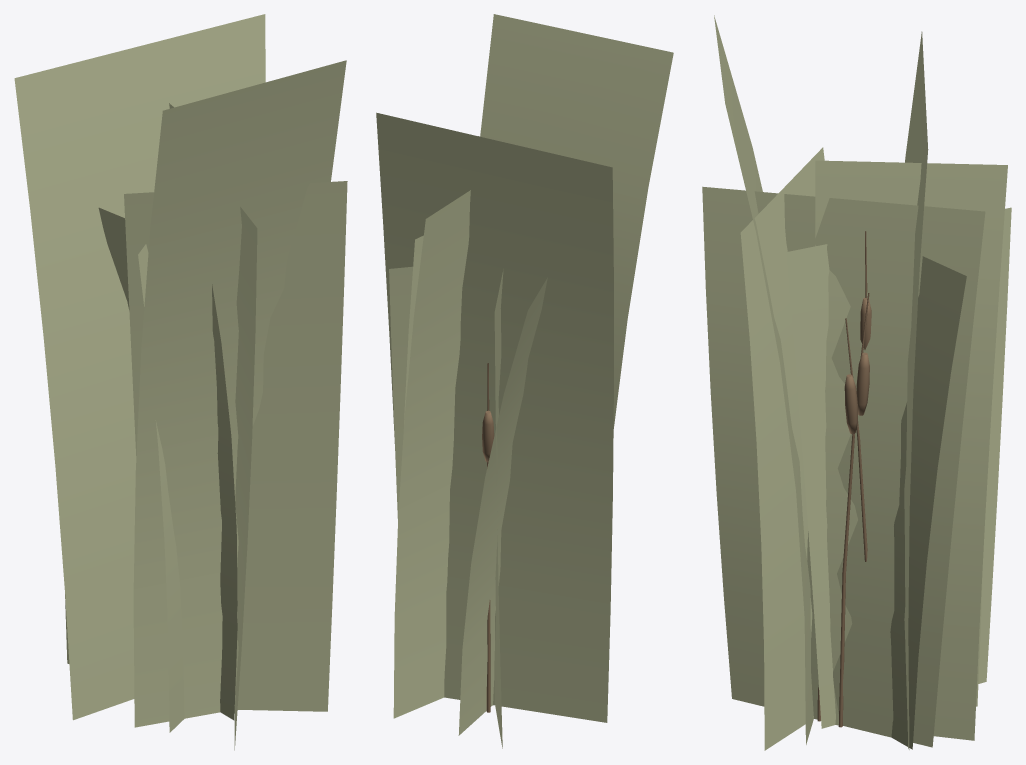
Rendered from reed_tall2.glb.
3 renders of one model, left to right at view 1: azimuth 30°, elevation 25°; view 2: azimuth 150°, elevation 25°; view 3: azimuth 270°, elevation 25°, orthographic. The views are drawn at different scales.
Parts seen in each view (by area): view 1: reed_tall2; view 2: reed_tall2; view 3: reed_tall2.
Boxes of the visible parts, x1=… form: reed_tall2: x1=14, y1=14, x2=347, y2=750; reed_tall2: x1=376, y1=14, x2=673, y2=748; reed_tall2: x1=702, y1=15, x2=1011, y2=750.
Bounding box in the file's own units: 1.15 × 2.88 × 1.25.
